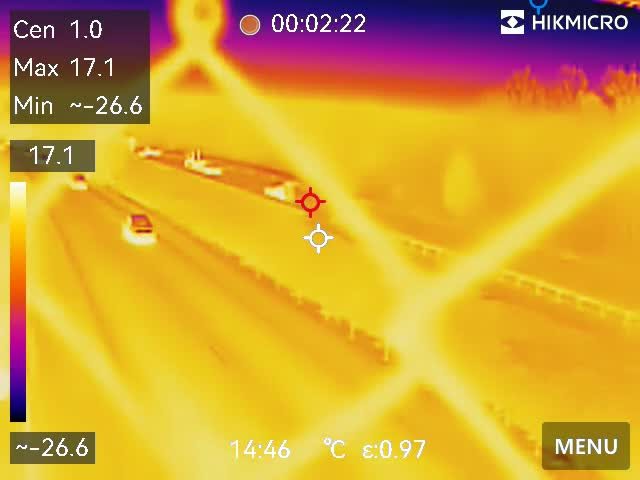heavyTruck: (182, 146, 225, 178)
vehicle: (119, 207, 162, 243)
